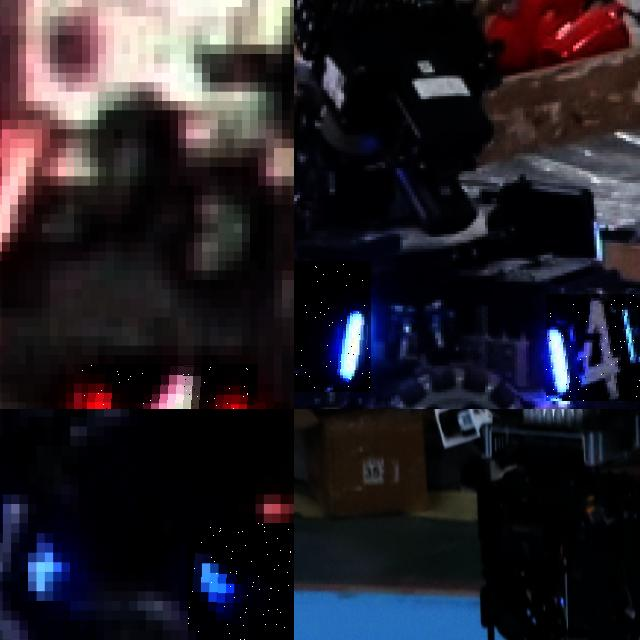B1: (187, 523, 294, 629), (0, 465, 70, 610)
B3: (294, 260, 370, 392)
B4: (546, 293, 640, 401)
R4: (82, 364, 258, 409)
